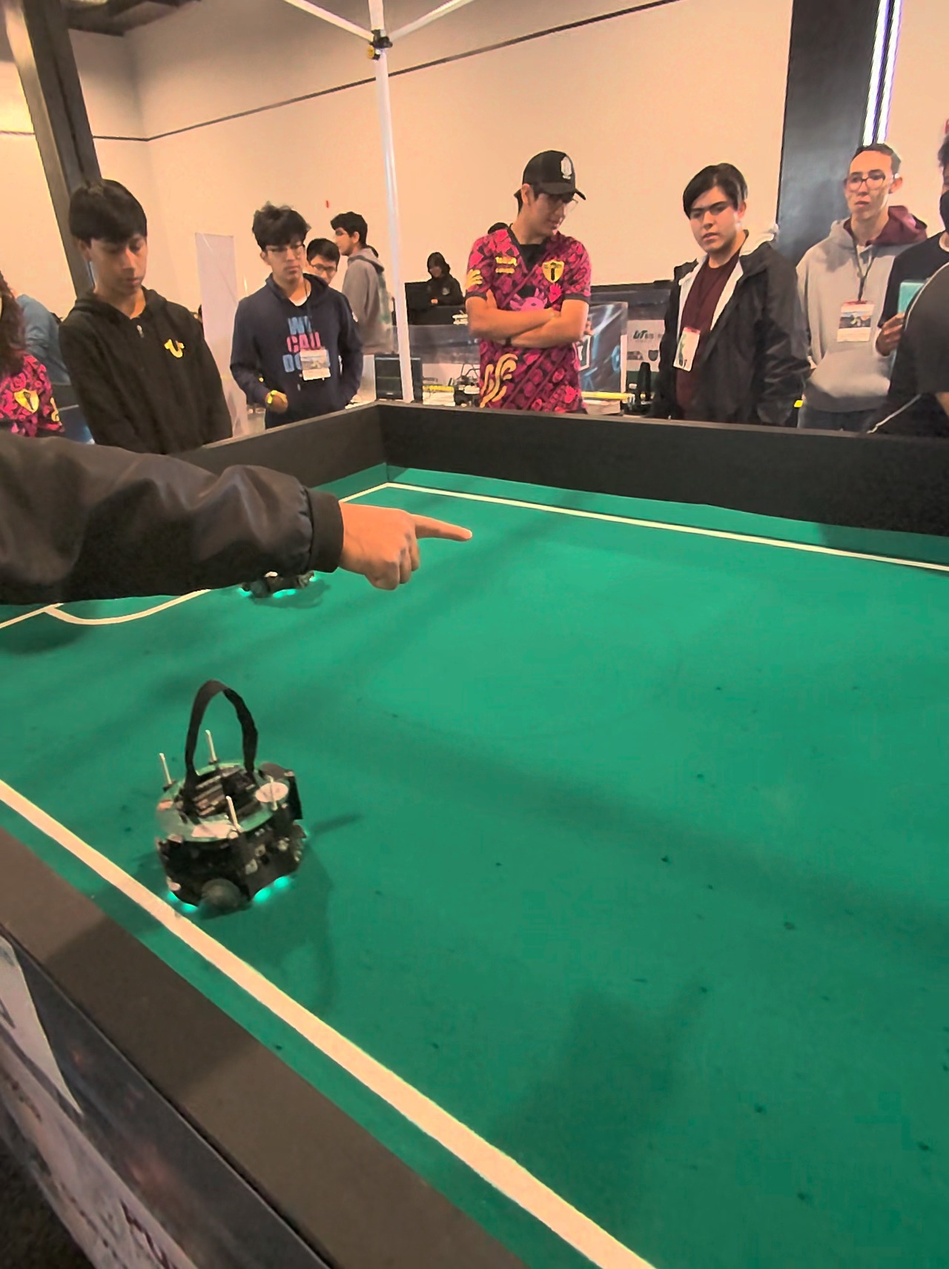Robot: (143, 668, 319, 936), (234, 464, 335, 614)
